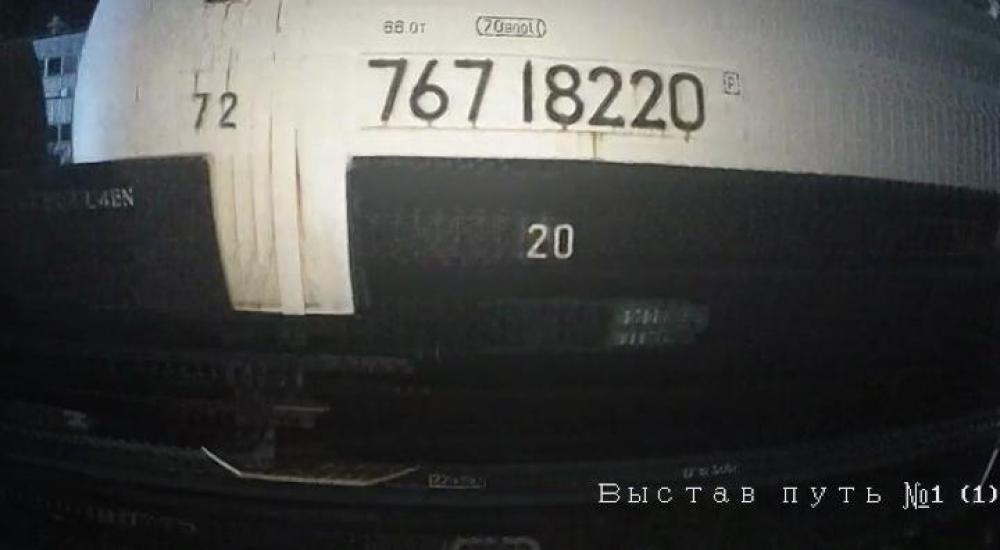Wagon-number: (365, 54, 711, 136)
